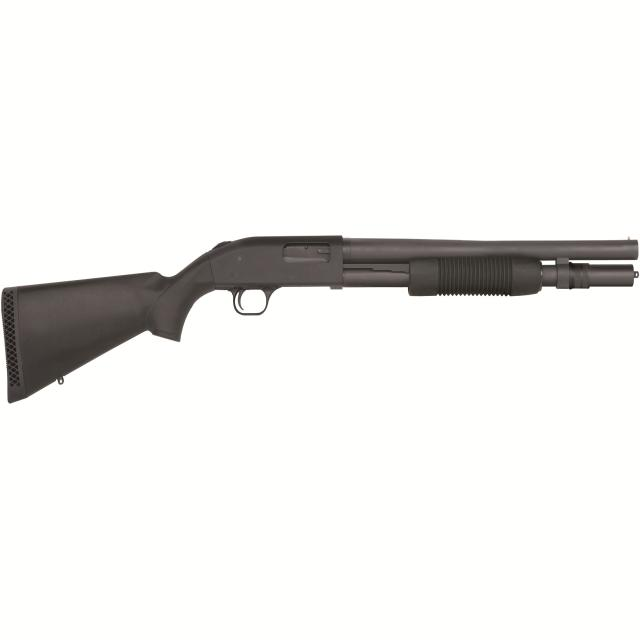ShotGun: (0, 235, 640, 406)
